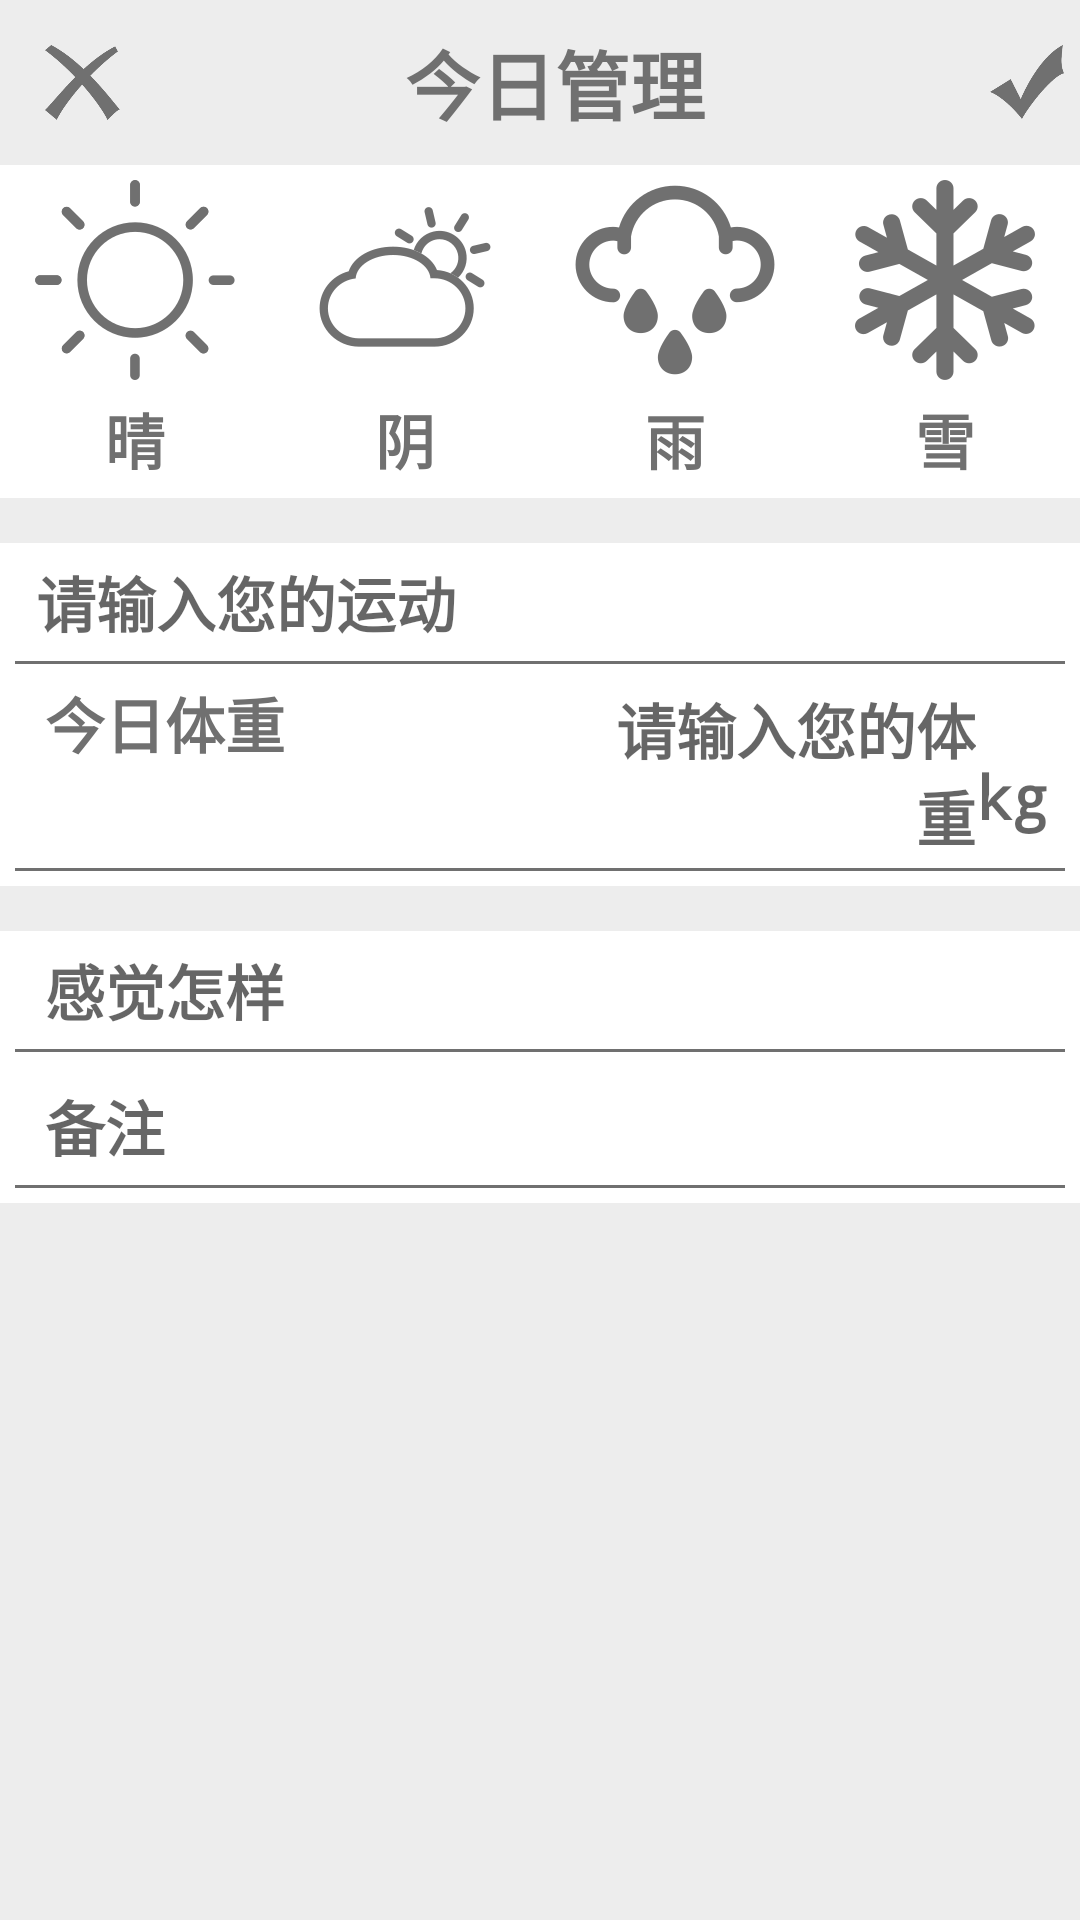

Icons on this 1080 x 1920 Android screen, each with its box as [left=x1, top=y1, right=x2, bottom=y2]:
cuo: [left=45, top=45, right=120, bottom=120]
dui: [left=990, top=45, right=1064, bottom=119]
